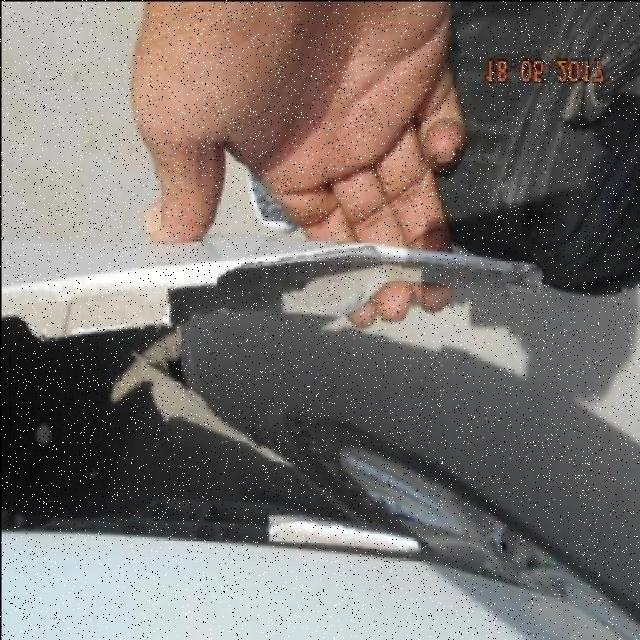damage: (0, 244, 544, 591)
